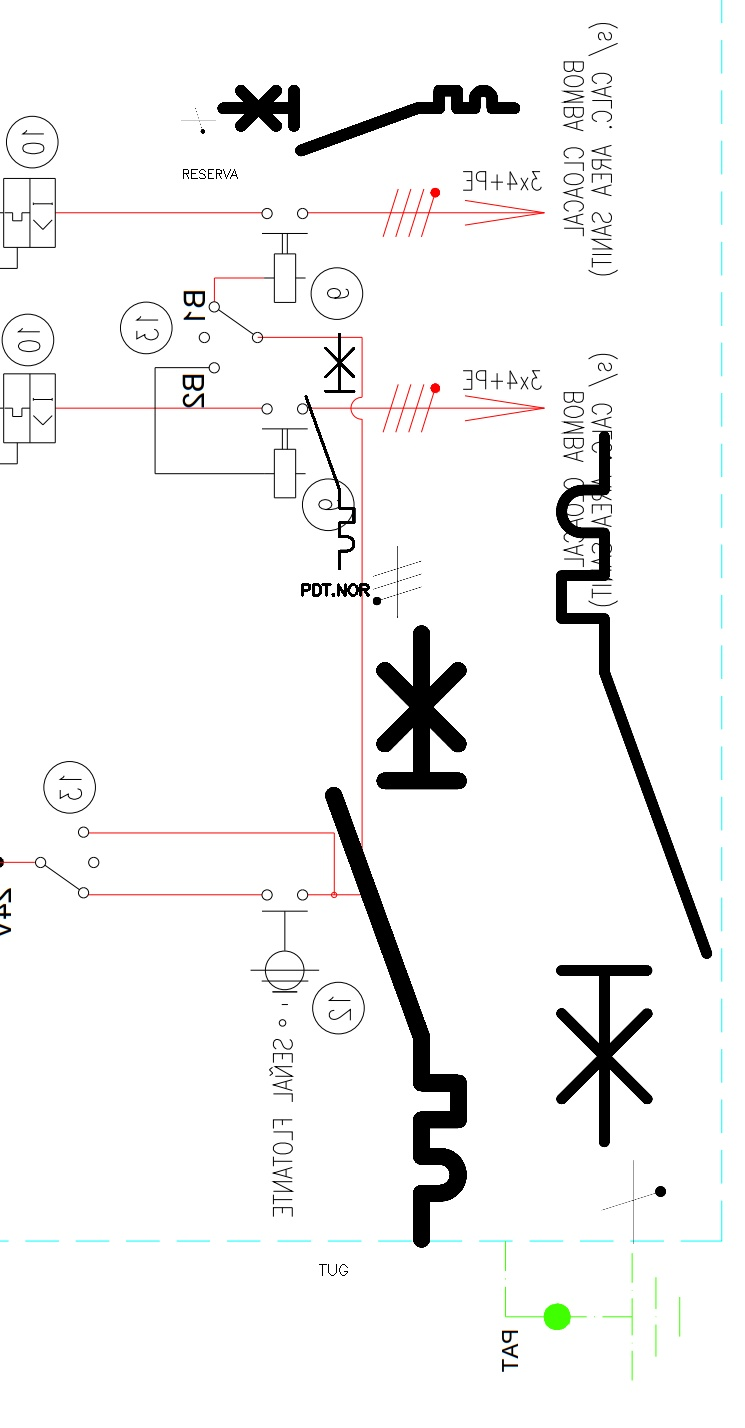interruptor_termomagnetico: (543, 418, 725, 1160), (318, 618, 474, 1255), (215, 83, 521, 158), (300, 328, 360, 575)
